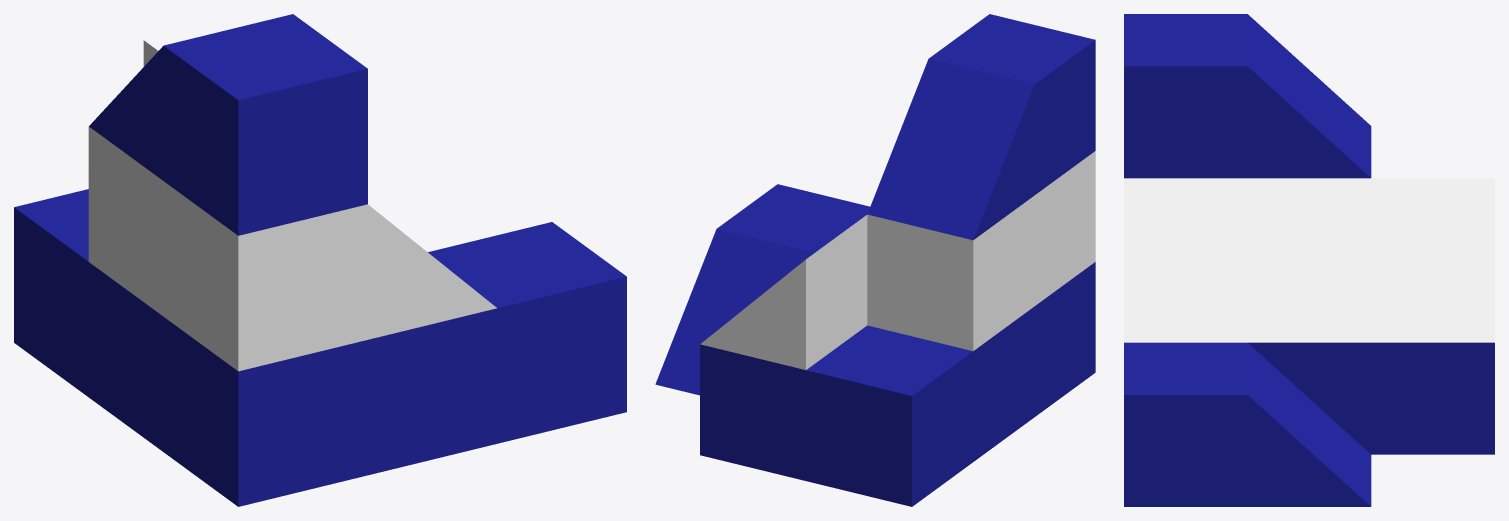
Rendered from vista2.glb.
The picture shows the model from 3 angles, left to right: view 1: azimuth 30°, elevation 25°; view 2: azimuth 150°, elevation 25°; view 3: azimuth 270°, elevation 25°; orthographic projection. The views are drawn at different scales.
Parts seen in each view (by area): view 1: Cube; view 2: Cube; view 3: Cube.
Boxes of the visible parts, left/top/right/bottom form: Cube: left=14, top=14, right=626, bottom=506; Cube: left=655, top=14, right=1095, bottom=506; Cube: left=1124, top=14, right=1494, bottom=506.
Size of what is drawn, in the model's own units: 6 by 6 by 6.
